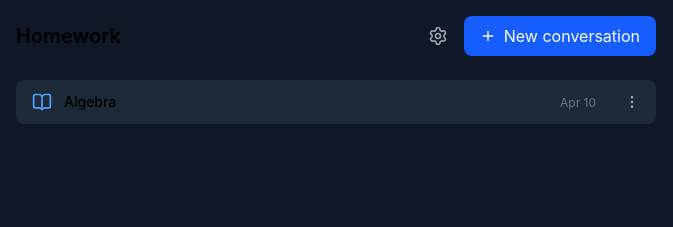
HomeworkPage – rename conversation › PATCHes the trimmed subject and shows it immediately
Check: the text "Algebra" is shown, box [64, 92, 116, 112]
Step 1. Click the button named "Conversation actions" → (632, 102), box [616, 86, 648, 118]
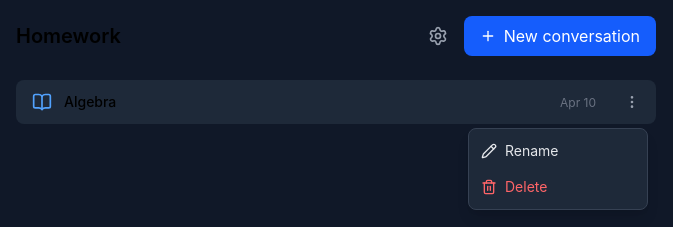
Step 2. Click the menu item "Rename" → (558, 151), box [469, 133, 647, 169]
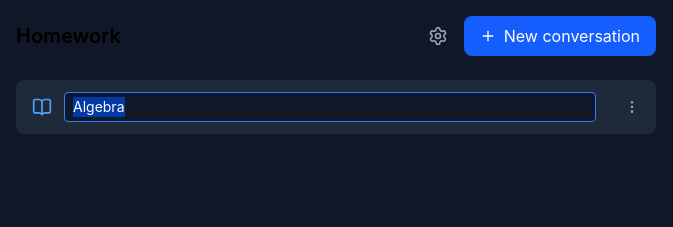
Step 3. Replace the text in the field named "Conversation name" with "  Geometry  " → (330, 107), box [64, 92, 596, 122]
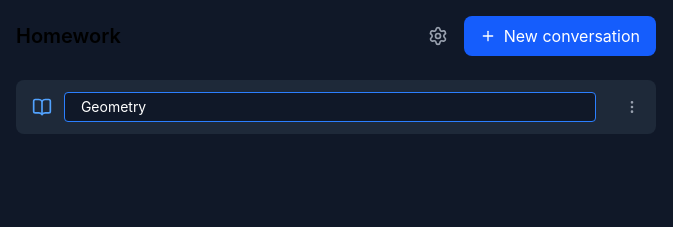
Step 4. Press Enter in the field named "Conversation name", box [64, 92, 596, 122]
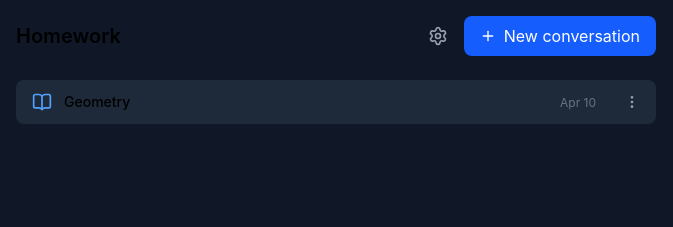
Check: the text "Geometry" is shown, box [64, 92, 130, 112]
